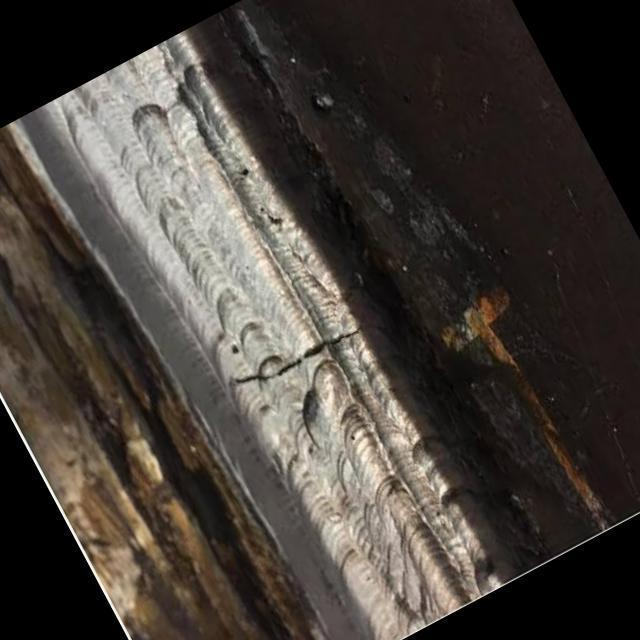defect: (232, 323, 365, 387)
